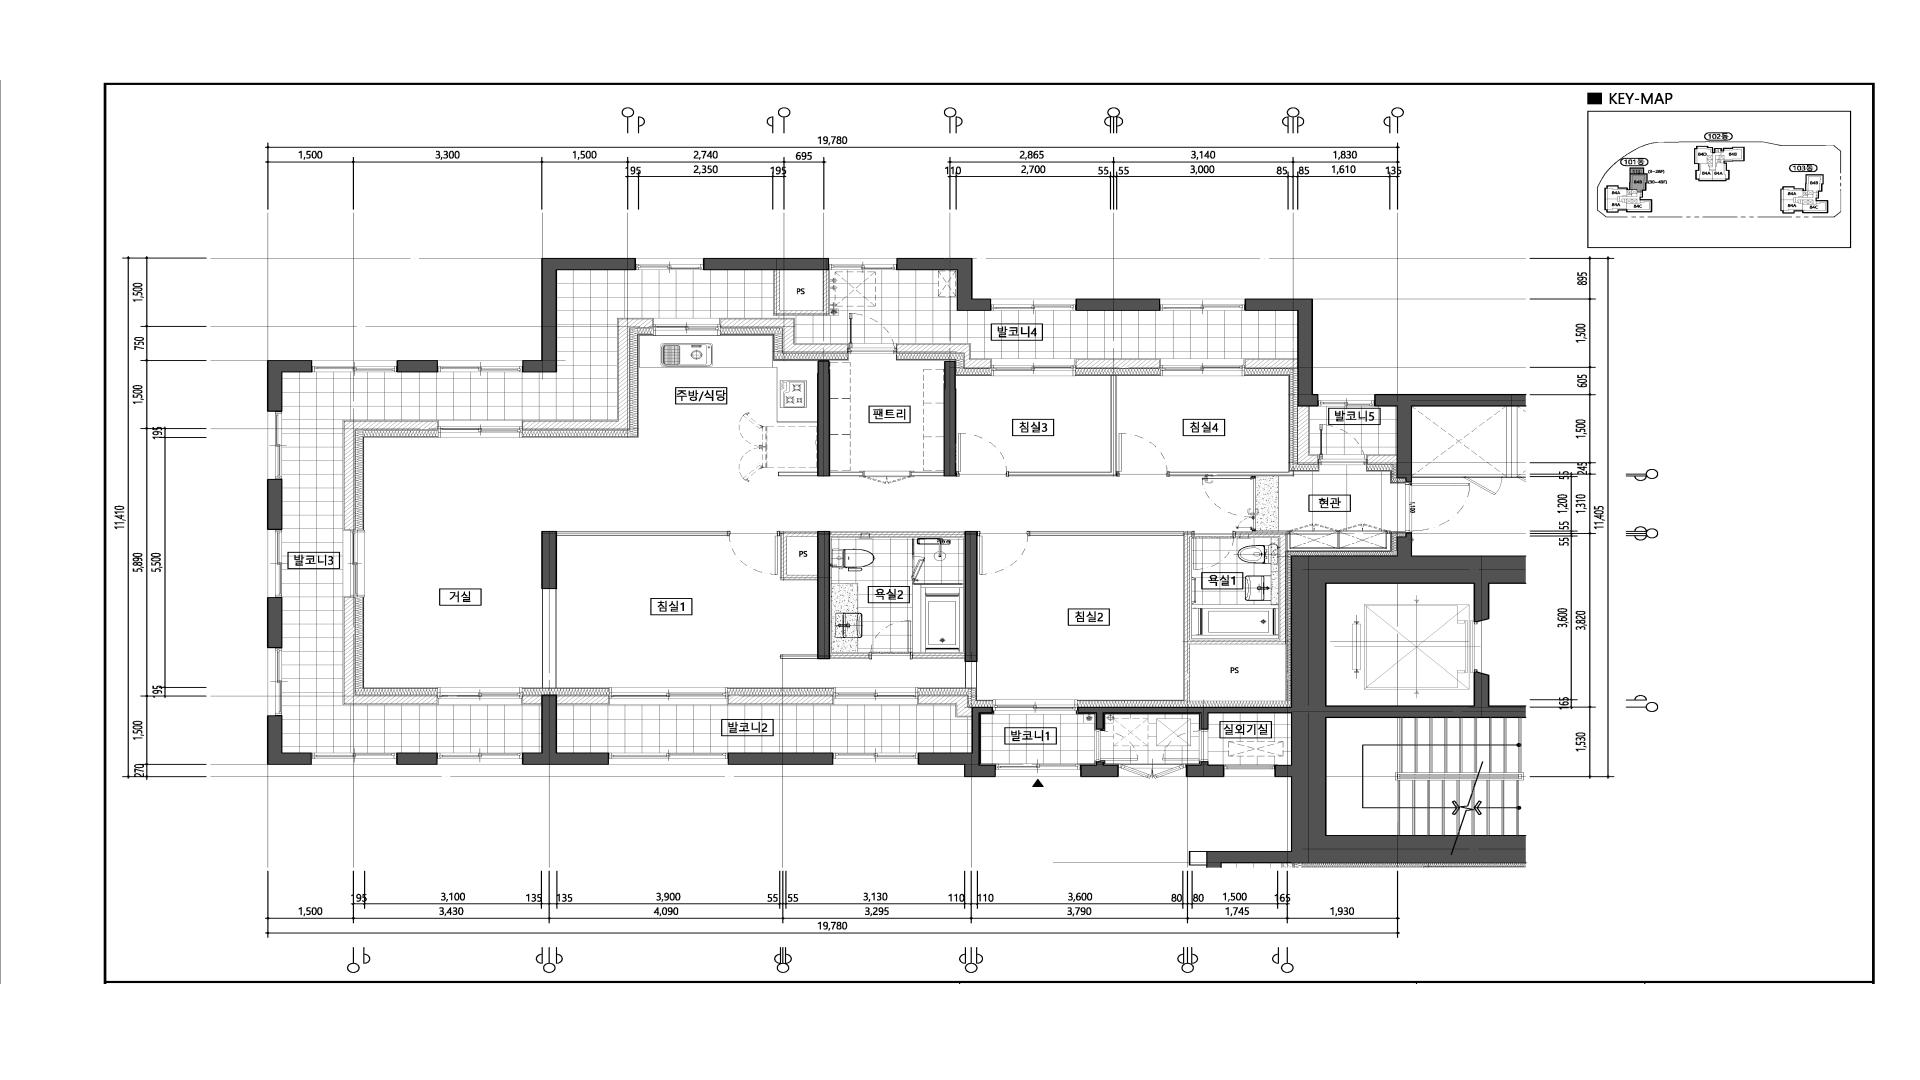door: (1405, 482, 1470, 533), (1197, 476, 1256, 531), (1116, 433, 1169, 477), (956, 433, 1009, 477), (977, 531, 1029, 575), (728, 531, 780, 575), (848, 312, 897, 354), (1319, 424, 1368, 465), (868, 620, 913, 660), (1192, 531, 1236, 570), (1163, 729, 1209, 762), (1095, 730, 1138, 761), (1462, 477, 1503, 495), (911, 538, 925, 585), (862, 471, 911, 483)
wall: (1078, 532, 1527, 863), (1029, 531, 1286, 701), (780, 531, 978, 688), (541, 531, 728, 688), (523, 319, 653, 430), (1374, 394, 1526, 483), (522, 258, 636, 373), (1009, 376, 1116, 476), (344, 421, 437, 530), (344, 597, 437, 704), (778, 360, 863, 476), (1244, 298, 1319, 407), (522, 694, 608, 765), (918, 707, 996, 777), (911, 361, 956, 476), (896, 258, 991, 311), (721, 319, 848, 353), (774, 270, 829, 316), (267, 360, 312, 412), (897, 344, 991, 368), (267, 715, 312, 765), (703, 258, 829, 270), (728, 752, 833, 765), (1298, 407, 1318, 464), (787, 537, 817, 575), (1075, 298, 1161, 311), (918, 695, 971, 716), (728, 695, 832, 704), (267, 597, 282, 649), (267, 479, 282, 530), (1076, 360, 1160, 369), (1503, 406, 1512, 478), (1186, 761, 1224, 777), (1080, 762, 1119, 777), (396, 752, 438, 765), (396, 360, 438, 372), (1169, 472, 1294, 476), (1245, 359, 1297, 368), (557, 695, 608, 704), (1367, 455, 1397, 464), (523, 695, 541, 704), (1412, 476, 1463, 478)
window: (609, 687, 727, 705), (438, 420, 522, 438), (834, 687, 917, 705), (343, 530, 365, 597), (437, 687, 522, 704), (992, 359, 1075, 376), (1161, 359, 1244, 376), (608, 753, 728, 764), (996, 763, 1081, 777), (993, 700, 1077, 714), (654, 318, 720, 335), (312, 360, 397, 372), (438, 360, 523, 372), (991, 299, 1075, 311), (268, 530, 282, 597), (1160, 299, 1245, 310), (833, 753, 918, 764), (312, 753, 396, 764), (438, 753, 522, 764), (268, 412, 281, 479), (268, 648, 281, 715), (1119, 764, 1185, 777), (636, 258, 703, 270), (830, 258, 896, 269), (1318, 394, 1374, 406), (1224, 764, 1275, 777)
